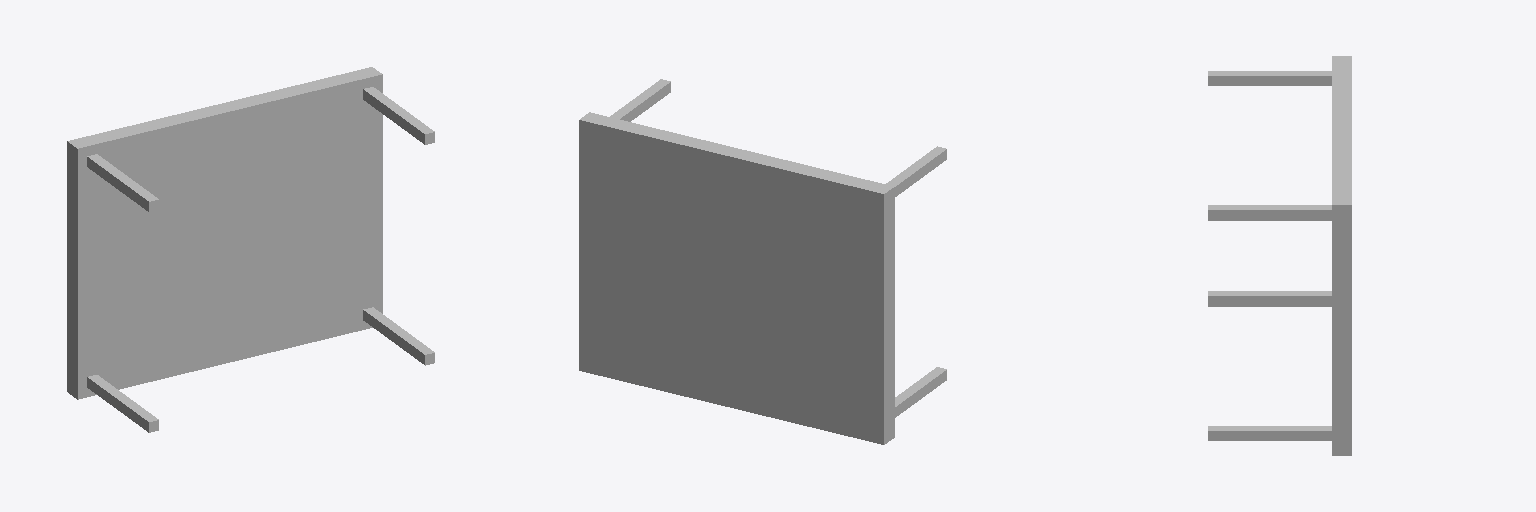
The model's file is random_table56.obj.
3 views of the same model, side by side, from view 1: azimuth 30°, elevation 25°; view 2: azimuth 150°, elevation 25°; view 3: azimuth 270°, elevation 25° (orthographic).
Visible parts, largest first — view 1: Table_Cube.1345, TableLeg0_Cube.1346, TableLeg2_Cube.1348, TableLeg3_Cube.1349, TableLeg1_Cube.1347; view 2: Table_Cube.1345, TableLeg1_Cube.1347, TableLeg3_Cube.1349, TableLeg0_Cube.1346; view 3: Table_Cube.1345, TableLeg0_Cube.1346, TableLeg3_Cube.1349, TableLeg1_Cube.1347, TableLeg2_Cube.1348.
Part boxes in pixels (bbox=[...]): Table_Cube.1345: bbox=[67, 67, 382, 399]; TableLeg0_Cube.1346: bbox=[363, 87, 434, 144]; TableLeg2_Cube.1348: bbox=[363, 307, 434, 365]; TableLeg3_Cube.1349: bbox=[87, 375, 158, 432]; TableLeg1_Cube.1347: bbox=[87, 154, 158, 211]; Table_Cube.1345: bbox=[579, 112, 894, 444]; TableLeg1_Cube.1347: bbox=[886, 146, 946, 196]; TableLeg3_Cube.1349: bbox=[895, 367, 946, 417]; TableLeg0_Cube.1346: bbox=[610, 79, 670, 121]; Table_Cube.1345: bbox=[1332, 56, 1351, 455]; TableLeg0_Cube.1346: bbox=[1208, 205, 1331, 220]; TableLeg3_Cube.1349: bbox=[1208, 291, 1331, 306]; TableLeg1_Cube.1347: bbox=[1208, 71, 1331, 85]; TableLeg2_Cube.1348: bbox=[1208, 426, 1331, 440].
Size of the model in its own units: 9.49 by 7.46 by 3.9.